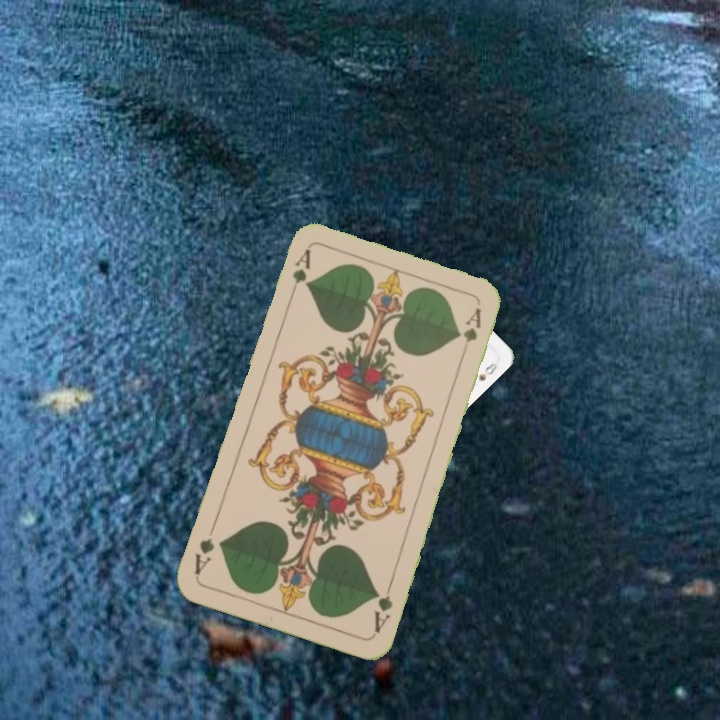GA: (285, 245, 313, 302), (370, 578, 395, 636)
